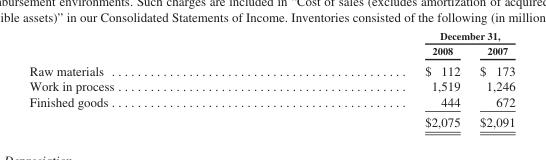table: (28, 28, 514, 129)
table column: (28, 28, 269, 129), (269, 28, 469, 129), (469, 28, 514, 129)
table column header: (28, 28, 514, 59)
table row: (28, 59, 514, 78), (28, 93, 514, 111), (28, 111, 514, 129), (28, 42, 514, 59), (28, 78, 514, 93), (28, 28, 514, 42)
table spanning cell: (269, 28, 514, 42)
